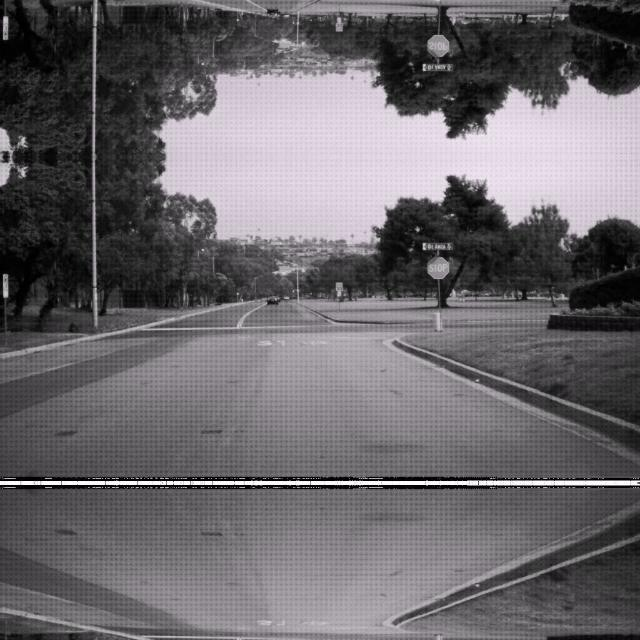stop: (426, 34, 449, 58), (426, 255, 449, 278)
